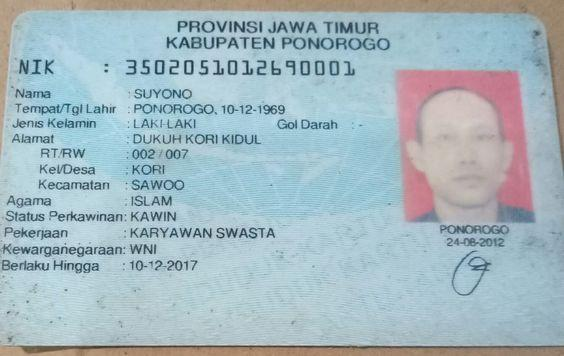ID-card: (0, 10, 559, 340)
